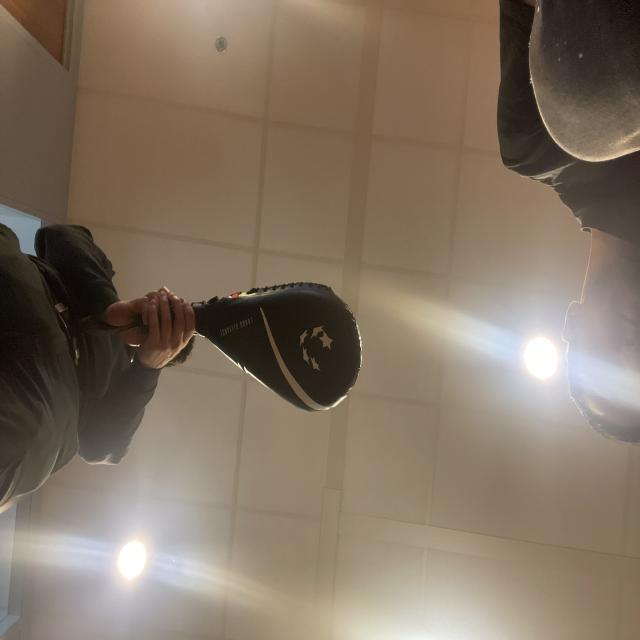paddle: (215, 287, 360, 407)
